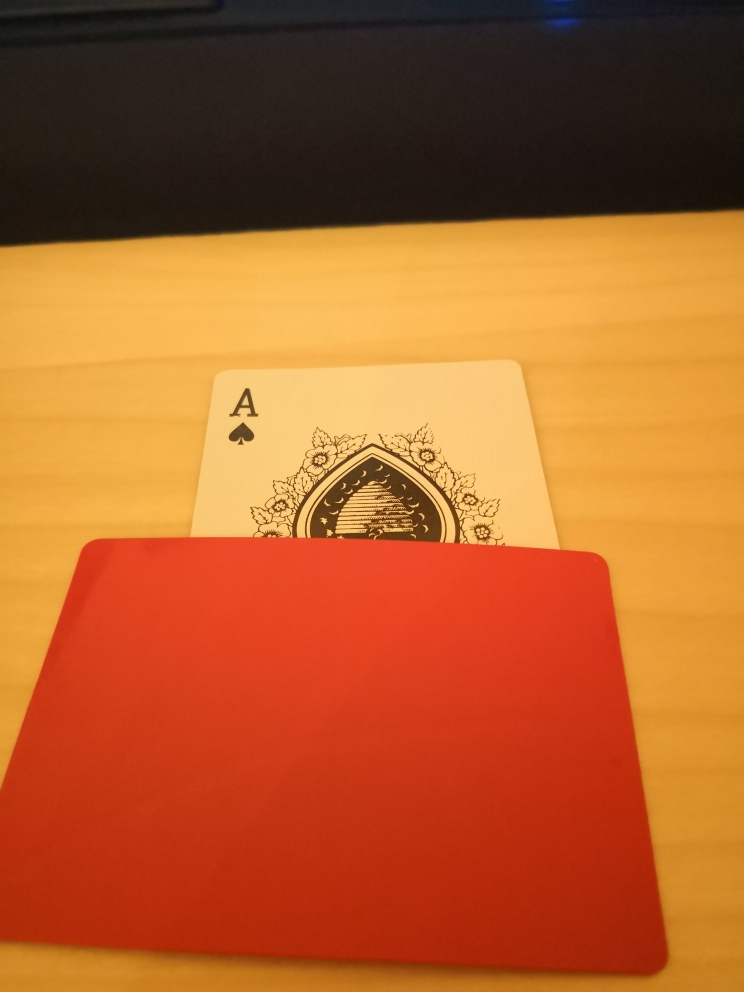ace: (192, 359, 561, 551)
